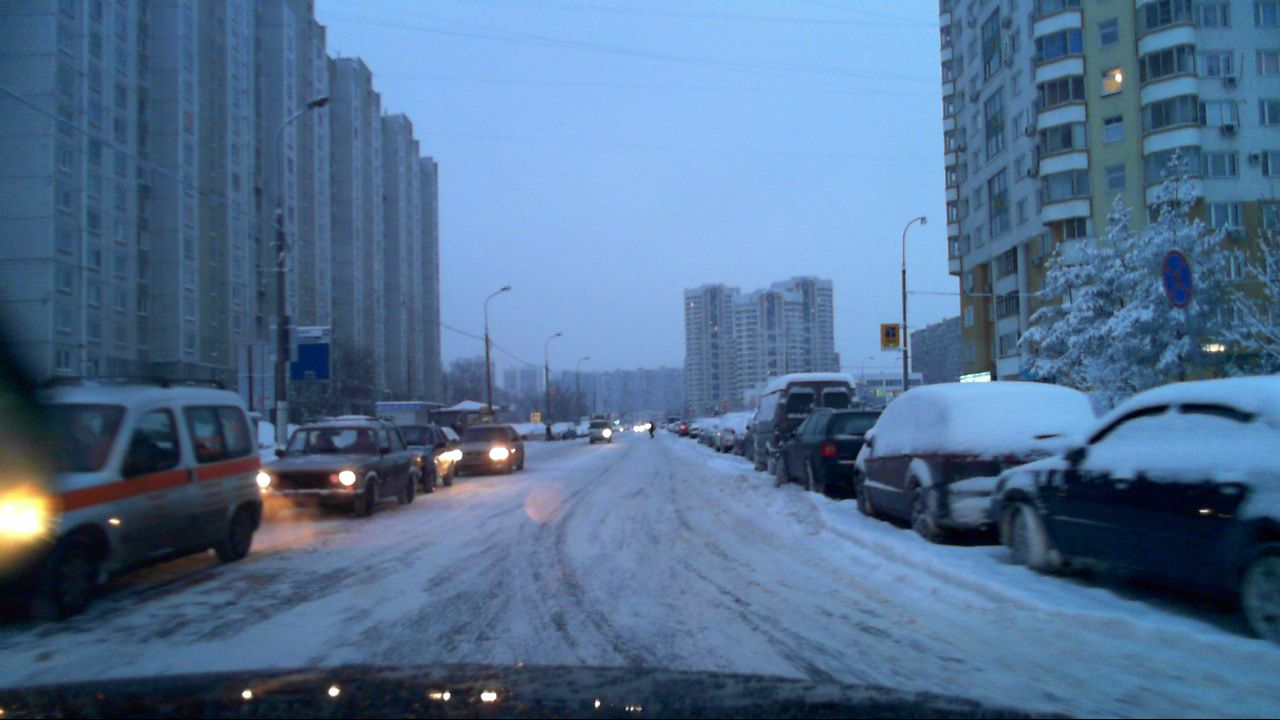No Parking: (1159, 245, 1195, 309)
